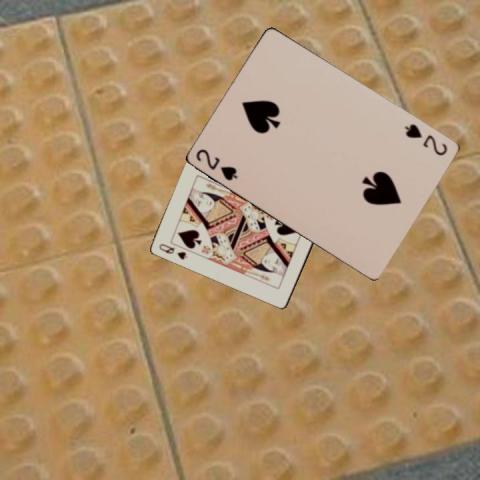2s: (192, 145, 239, 183), (401, 121, 449, 157)
Qs: (156, 240, 189, 260)
